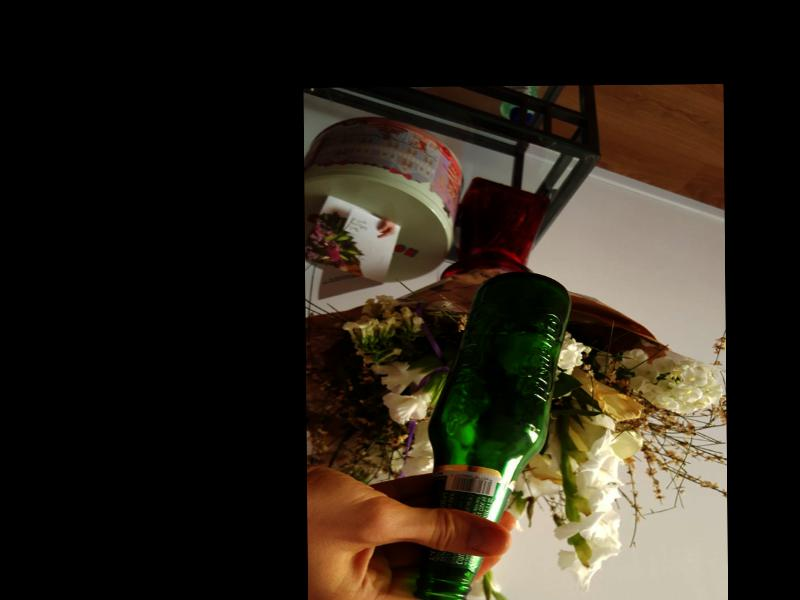Beer: (426, 271, 573, 600)
